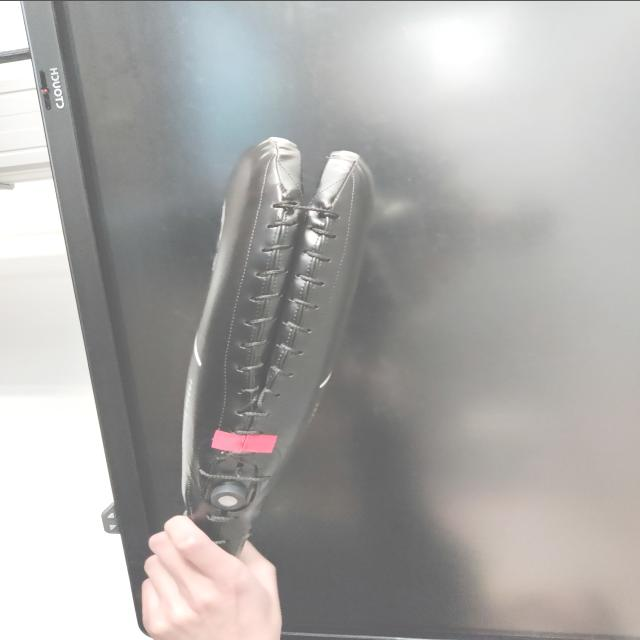paddle: (178, 134, 378, 554)
